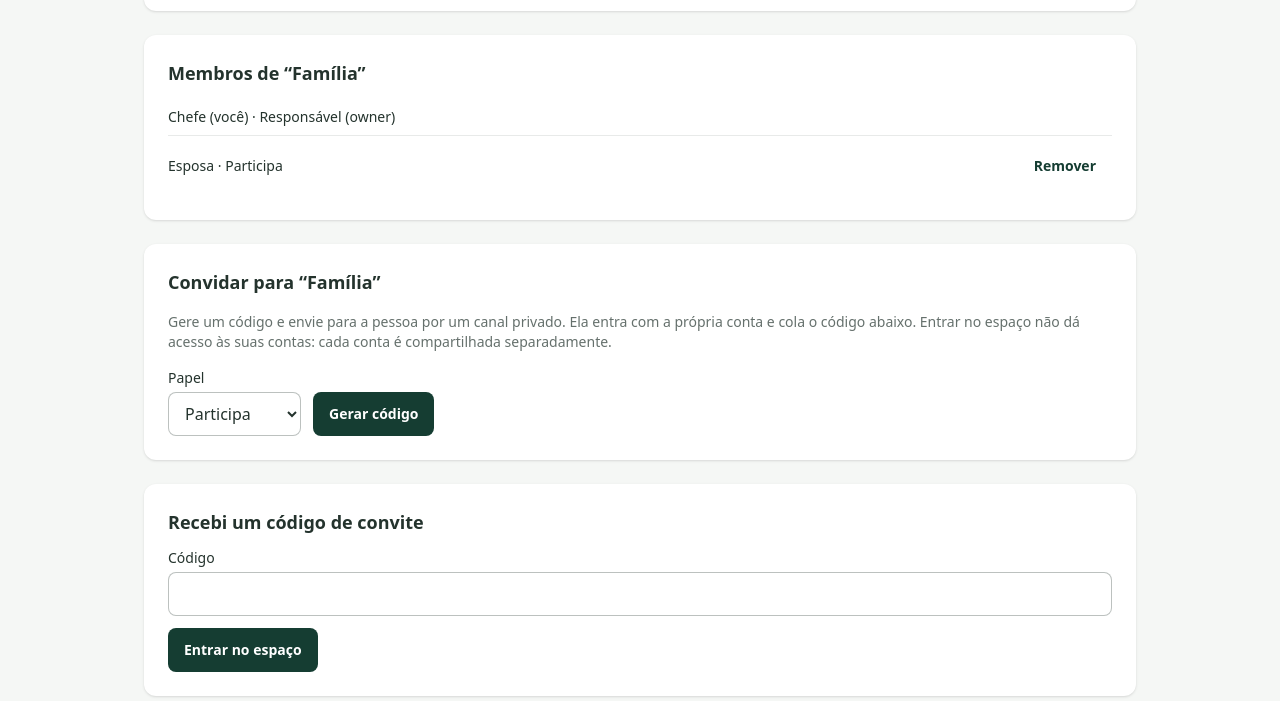
Test case: Família › gera código de convite e mostra uma única vez
(page scrolled)
Click the button "Gerar código" at (374, 414), box [313,392,434,436]
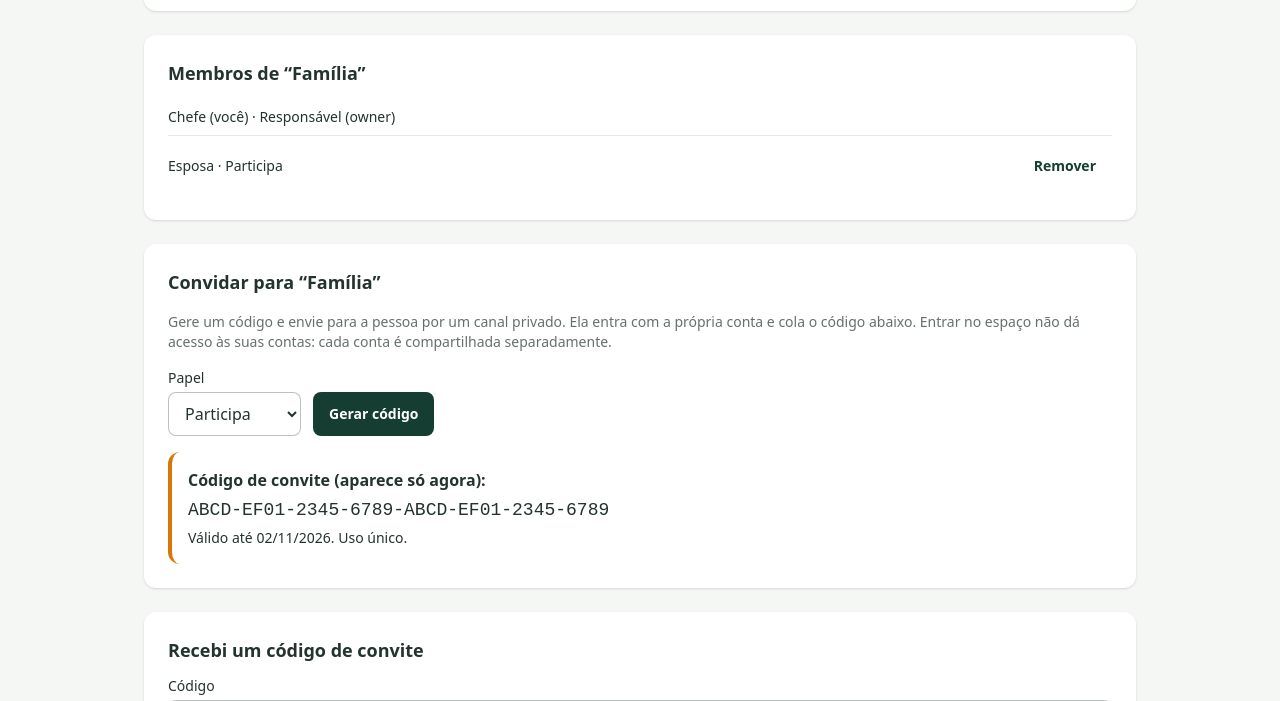
Now the text named "Código de convite" shows "ABCD-EF01-2345", box [188,500,609,520]
